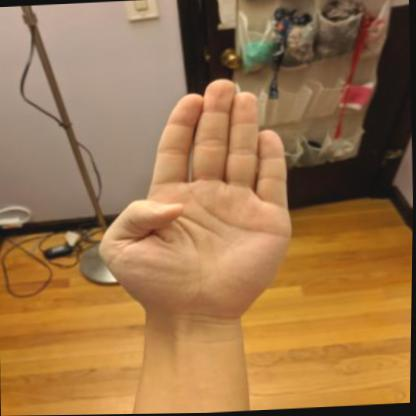B: (88, 73, 304, 335)
